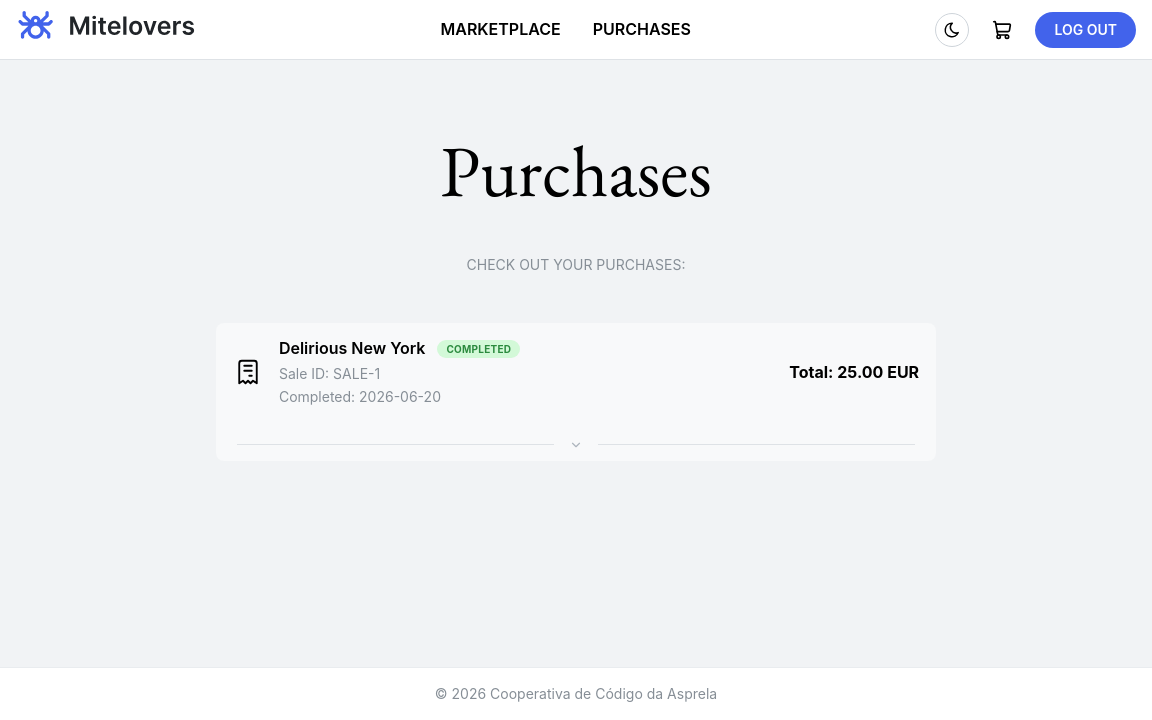
Test: SalesPage › expands accordion and shows sale line details
This screenshot has width=1152, height=720.
Click the text "Delirious New York".
click(352, 349)  # box [279,336,425,361]
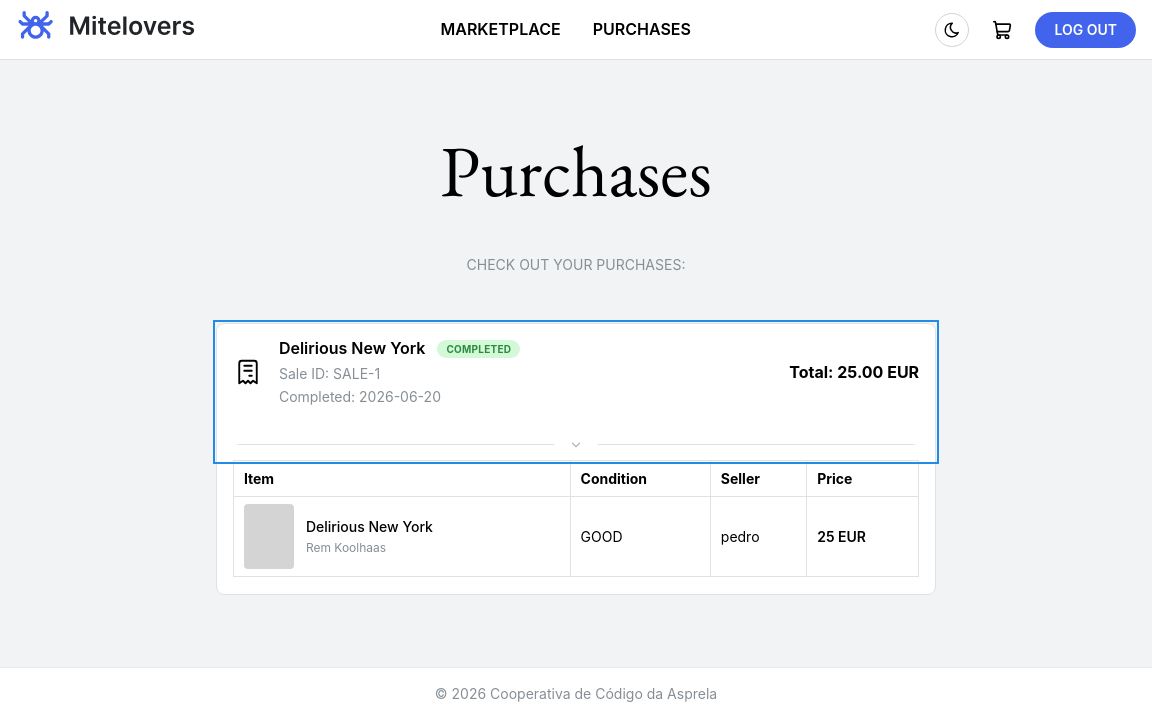
Expected: the column heading "Item" is shown, [233,460,570,497]
Expected: the column heading "Condition" is shown, [570,460,710,497]
Expected: the column heading "Seller" is shown, [710,460,807,497]
